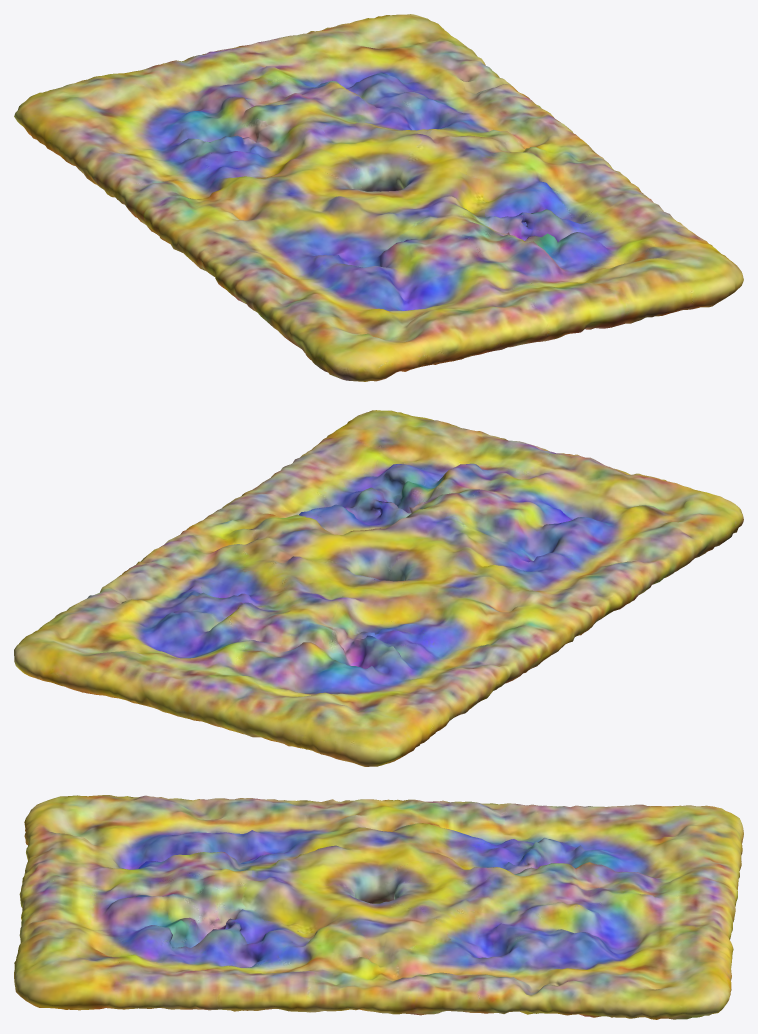
Rendered from matched_card.glb.
3 renders of one model, top to bottom at view 1: azimuth 30°, elevation 25°; view 2: azimuth 150°, elevation 25°; view 3: azimuth 270°, elevation 25°, orthographic. The views are drawn at different scales.
Parts seen in each view (by area): view 1: Mesh1; view 2: Mesh1; view 3: Mesh1.
Part boxes in pixels (x1,y1,x2,y2): Mesh1: (14, 14, 743, 381); Mesh1: (14, 410, 743, 766); Mesh1: (14, 795, 743, 1019).
Size of the model in its own units: 0.8089 by 0.1322 by 1.2.
1 material, 1 textured.
